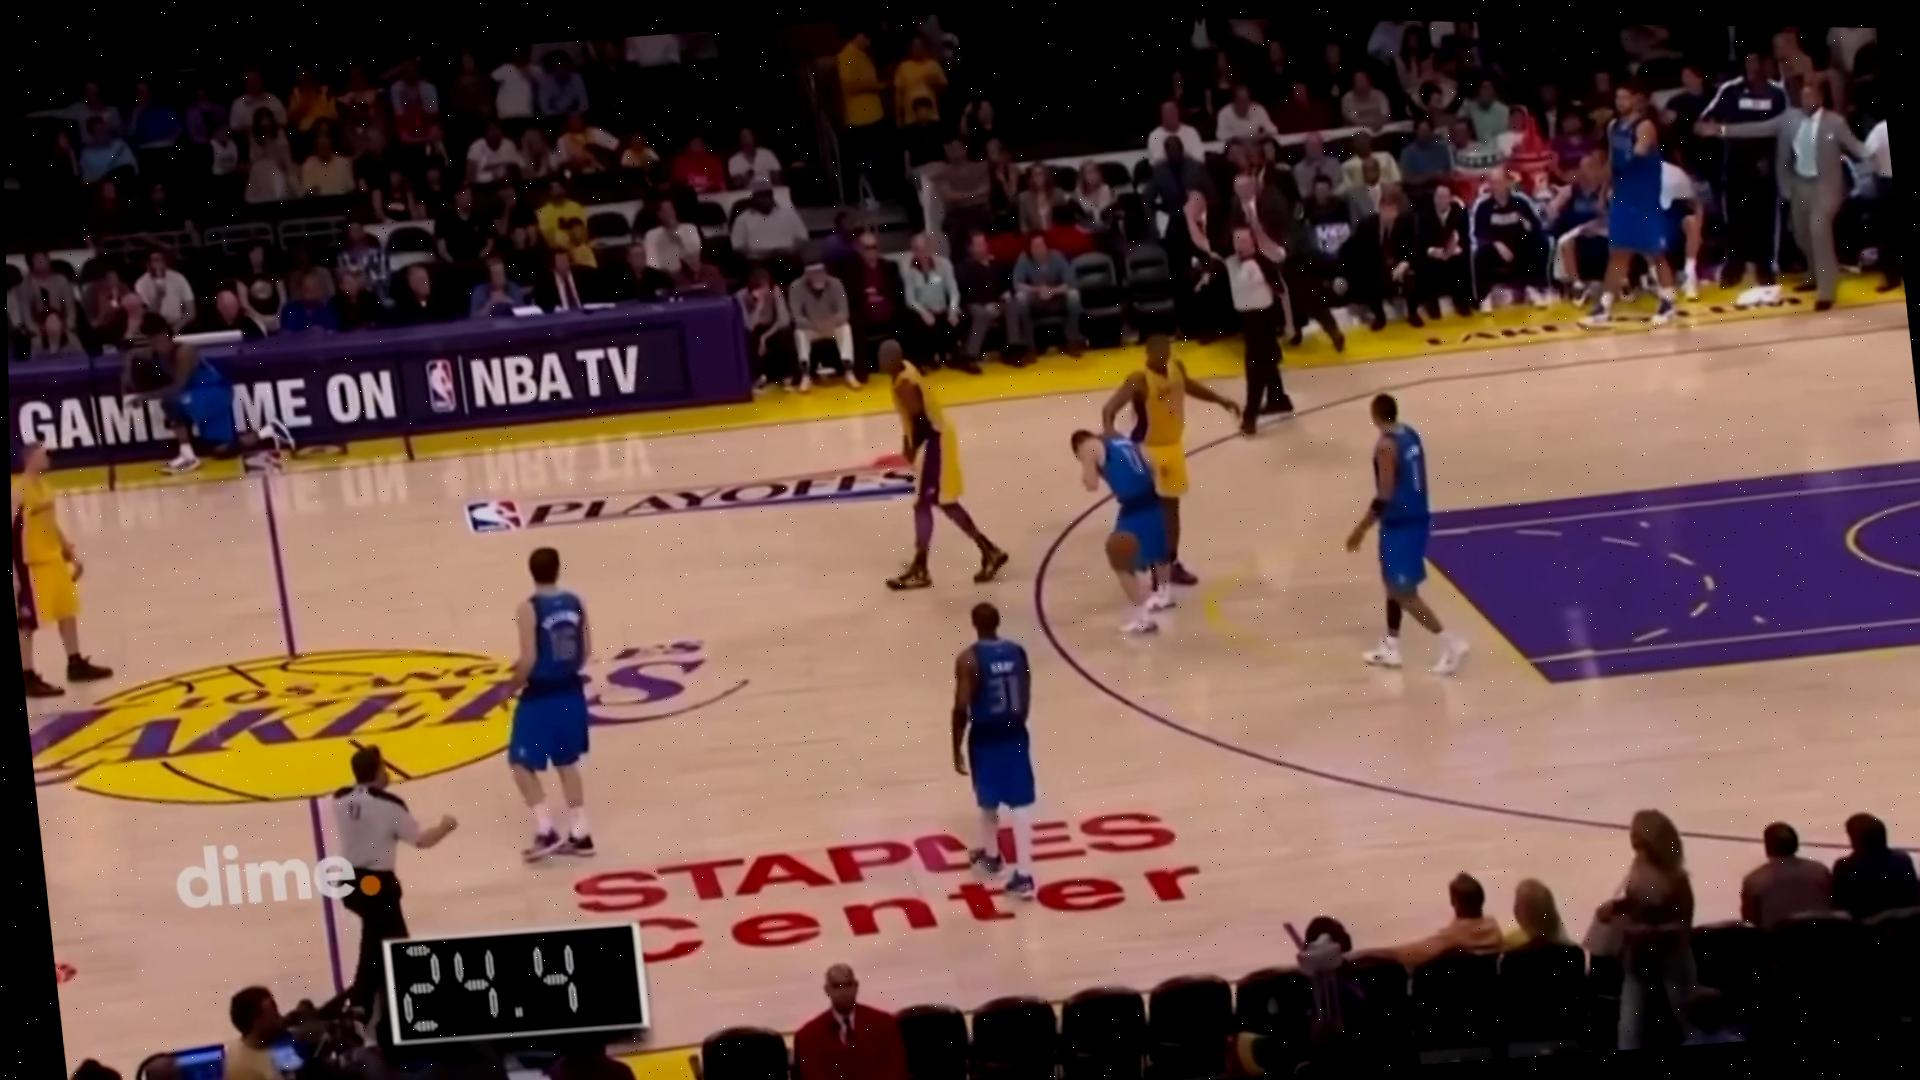no_foul: (1013, 301, 1236, 629)
